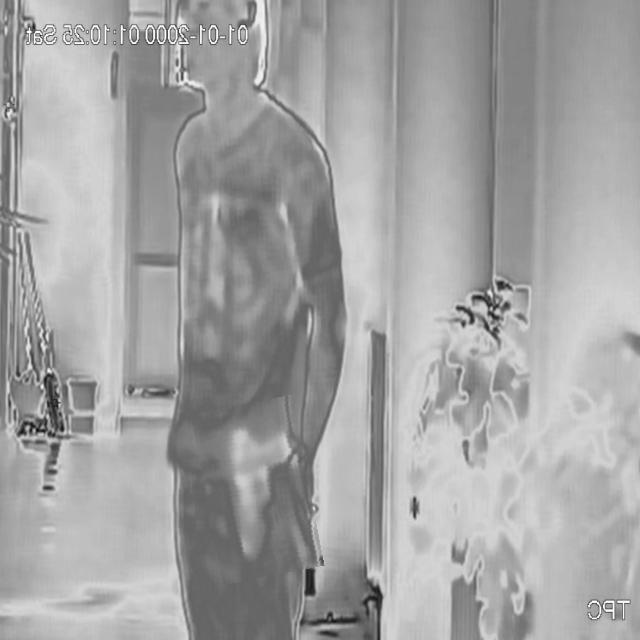Weapon: (198, 399, 316, 581)
